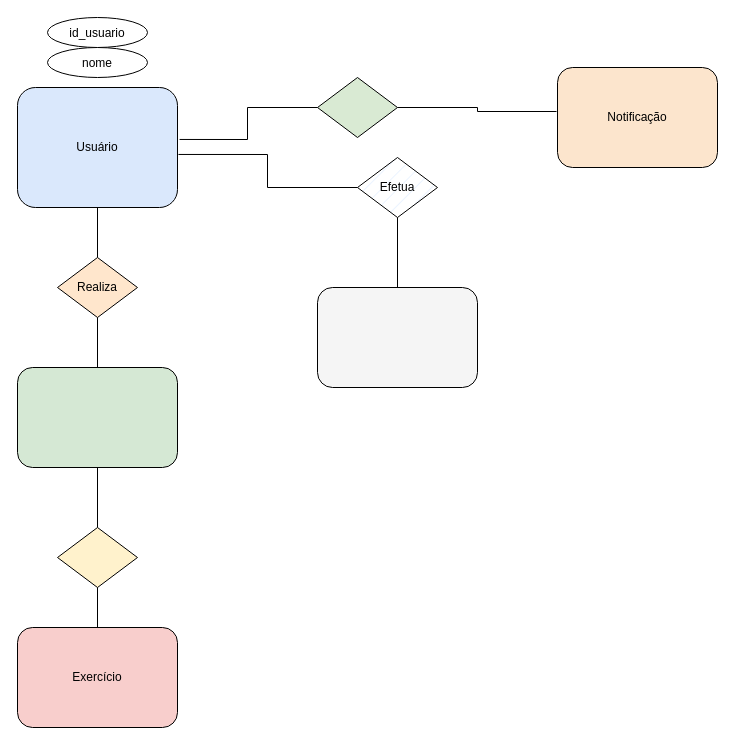
The diagram is 735 pixels wide and 745 high, and some of its shapes have lost their labels. The centre of each missing label's shape, as x and y in pixels:
Contém: point (97, 557)
Pagamento: point (397, 337)
Recebe: point (357, 107)
Treino: point (97, 417)
